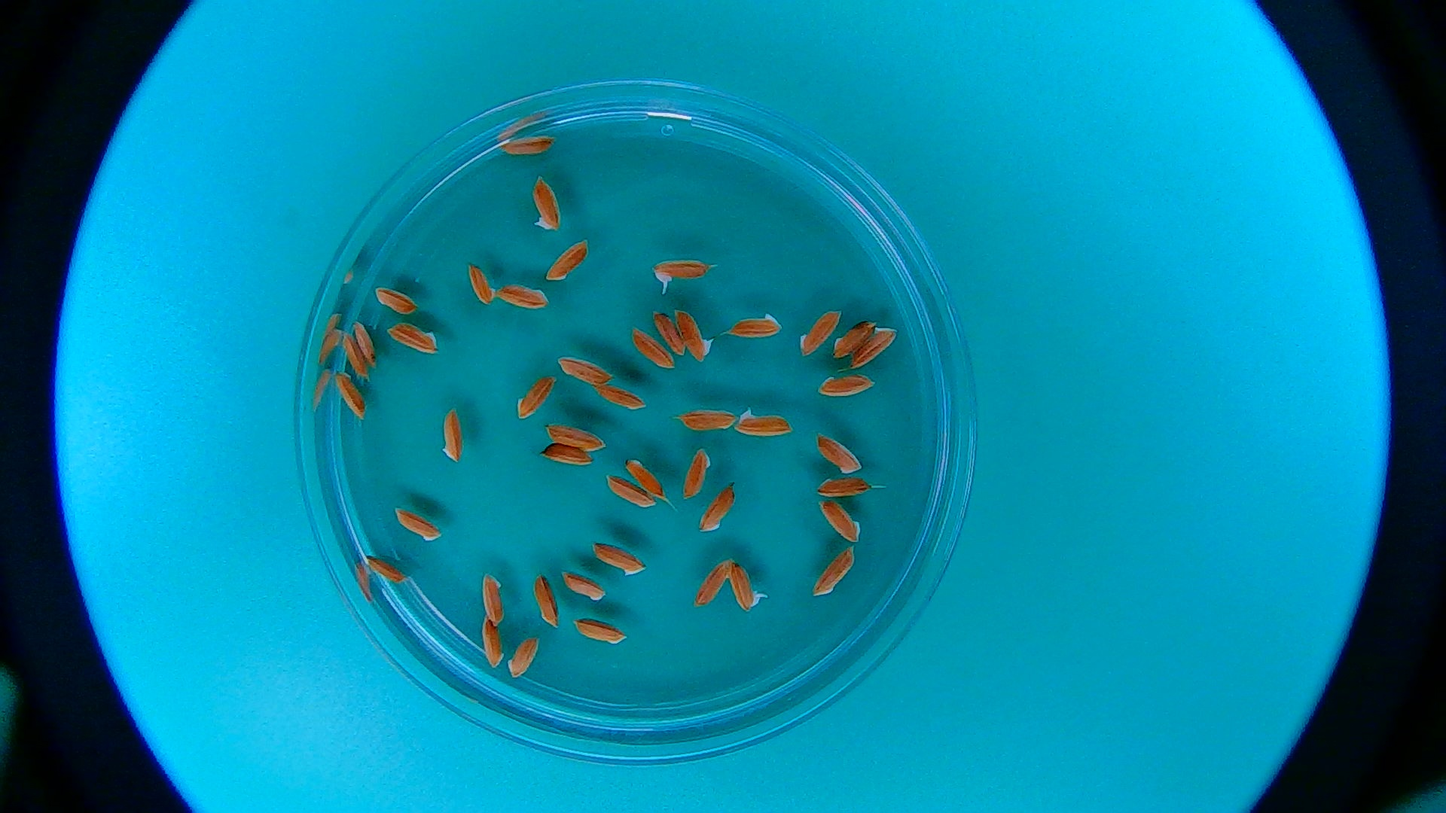no: (846, 324, 902, 372), (813, 547, 855, 599), (529, 172, 564, 232), (545, 239, 592, 282), (732, 405, 792, 438), (796, 308, 840, 353), (514, 373, 556, 419), (816, 431, 862, 473), (591, 541, 646, 575), (819, 498, 862, 541), (625, 457, 668, 499), (632, 327, 672, 372), (603, 474, 654, 509), (386, 321, 438, 355), (700, 483, 736, 532), (571, 616, 629, 646), (559, 568, 609, 602), (652, 309, 688, 355), (682, 448, 712, 502), (333, 370, 364, 422), (532, 574, 561, 629), (557, 355, 612, 384), (495, 282, 548, 312), (394, 508, 442, 541), (728, 312, 782, 341), (817, 372, 877, 398), (695, 558, 728, 605), (592, 383, 647, 410), (438, 407, 464, 464), (545, 425, 608, 448), (480, 572, 508, 623), (834, 320, 871, 358), (478, 619, 505, 671), (508, 635, 539, 680), (679, 408, 736, 432), (372, 285, 418, 314), (540, 443, 594, 466), (815, 477, 872, 498), (465, 263, 494, 304), (499, 135, 557, 155), (365, 554, 406, 581), (353, 319, 377, 365), (342, 331, 365, 378)
yes: (673, 306, 709, 359), (654, 257, 712, 284), (731, 565, 757, 617)
